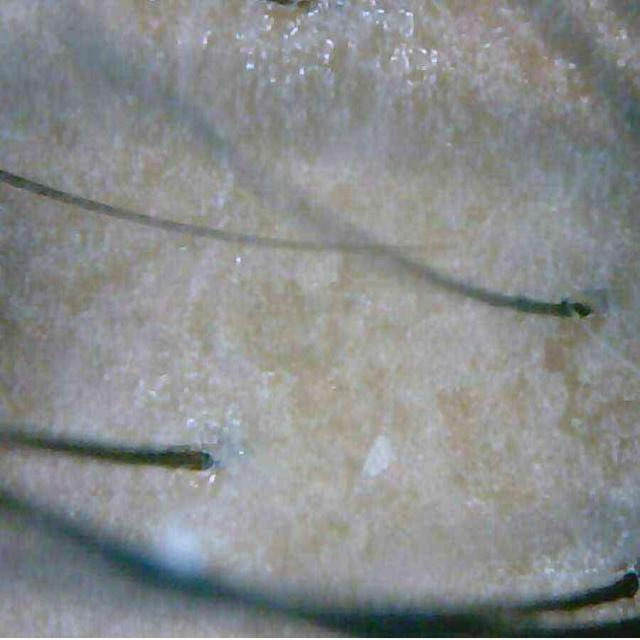d: (362, 427, 396, 477)
o: (231, 0, 448, 92)
